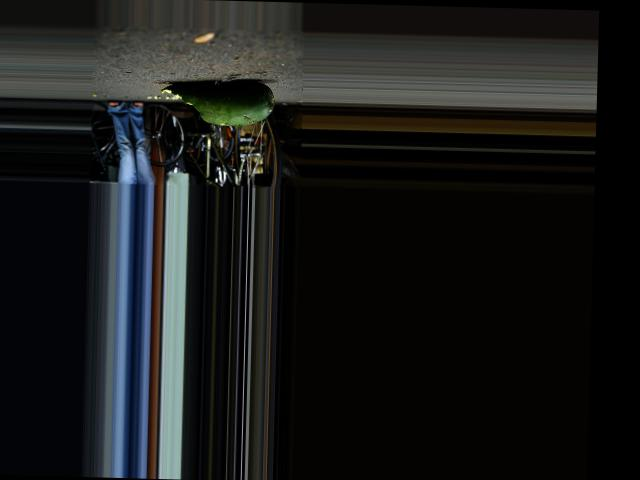cucumber: (158, 79, 274, 126)
